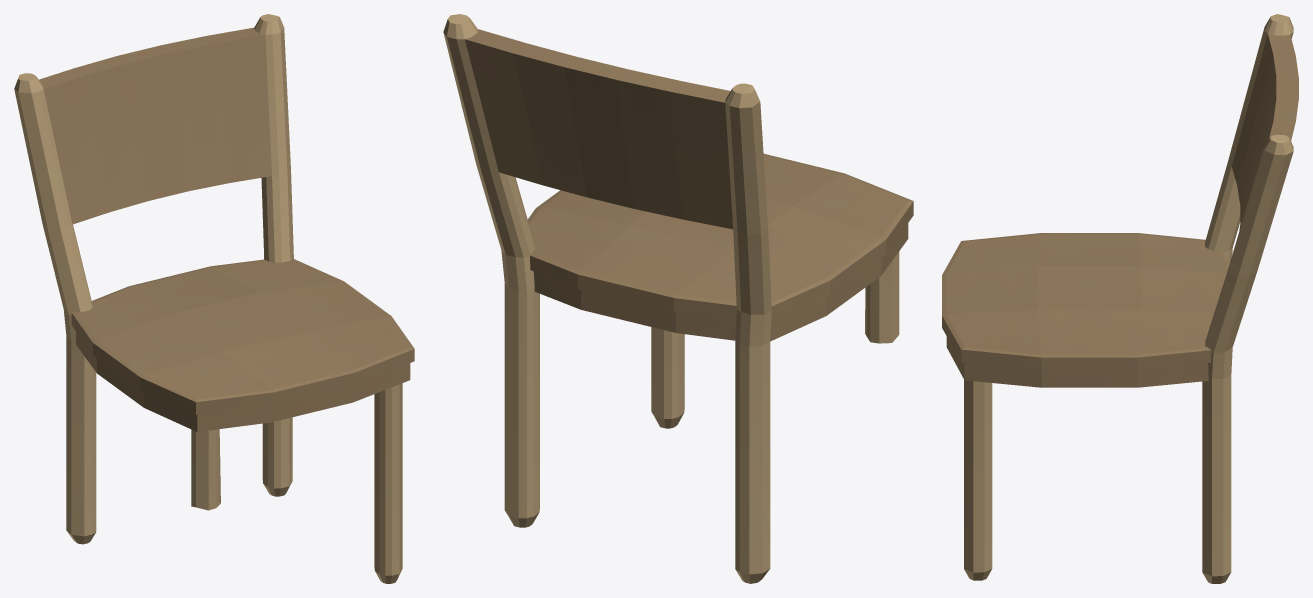
Rendered from chair_1_destroyed_1.glb.
The picture shows the model from 3 angles, left to right: view 1: azimuth 30°, elevation 25°; view 2: azimuth 150°, elevation 25°; view 3: azimuth 270°, elevation 25°; orthographic projection. The views are drawn at different scales.
Visible parts, largest first — view 1: chair_1_destroyed_1; view 2: chair_1_destroyed_1; view 3: chair_1_destroyed_1.
Boxes of the visible parts, x1,y1,x2,y2 form: chair_1_destroyed_1: (14, 14, 414, 583); chair_1_destroyed_1: (443, 14, 913, 583); chair_1_destroyed_1: (942, 14, 1298, 583).
Size of the model in its own units: 0.4699 by 0.7549 by 0.5374.
Materials: 1 (1 with a texture image).
